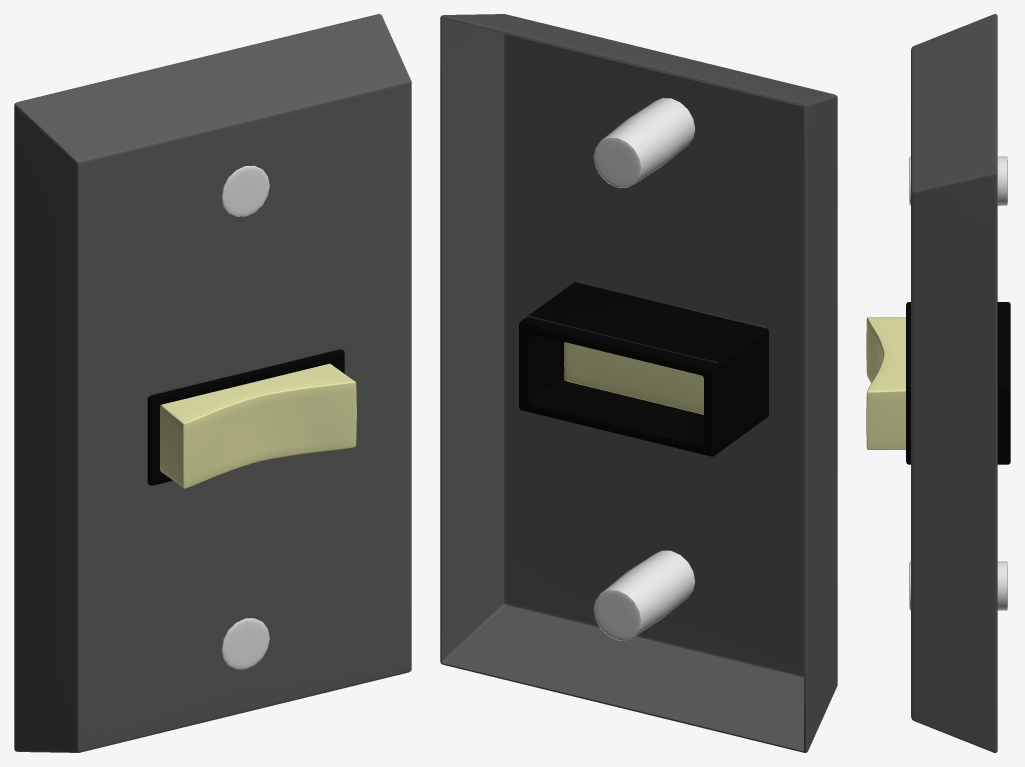
File: INTE_Interruptor_SemTomada.fbx
3 renders of one model, left to right at view 1: azimuth 30°, elevation 25°; view 2: azimuth 150°, elevation 25°; view 3: azimuth 270°, elevation 25°, orthographic. The views are drawn at different scales.
Parts seen in each view (by area): view 1: Base, Botao, Parafusos, DetPreto_Botao; view 2: Base, DetPreto_Botao, Parafusos, Botao; view 3: Base, Botao, DetPreto_Botao, Parafusos.
Boxes of the visible parts, x1=… form: Base: x1=14, y1=14, x2=411, y2=752; Botao: x1=160, y1=363, x2=356, y2=488; Parafusos: x1=221, y1=165, x2=269, y2=669; DetPreto_Botao: x1=147, y1=349, x2=344, y2=485; Base: x1=440, y1=14, x2=837, y2=752; DetPreto_Botao: x1=519, y1=282, x2=768, y2=456; Parafusos: x1=593, y1=98, x2=695, y2=640; Botao: x1=564, y1=342, x2=703, y2=414; Base: x1=911, y1=14, x2=997, y2=752; Botao: x1=866, y1=317, x2=905, y2=449; DetPreto_Botao: x1=906, y1=302, x2=1010, y2=464; Parafusos: x1=909, y1=156, x2=1007, y2=610.
Bounding box in the file's own units: 0.8767 × 1.48 × 0.3333.
